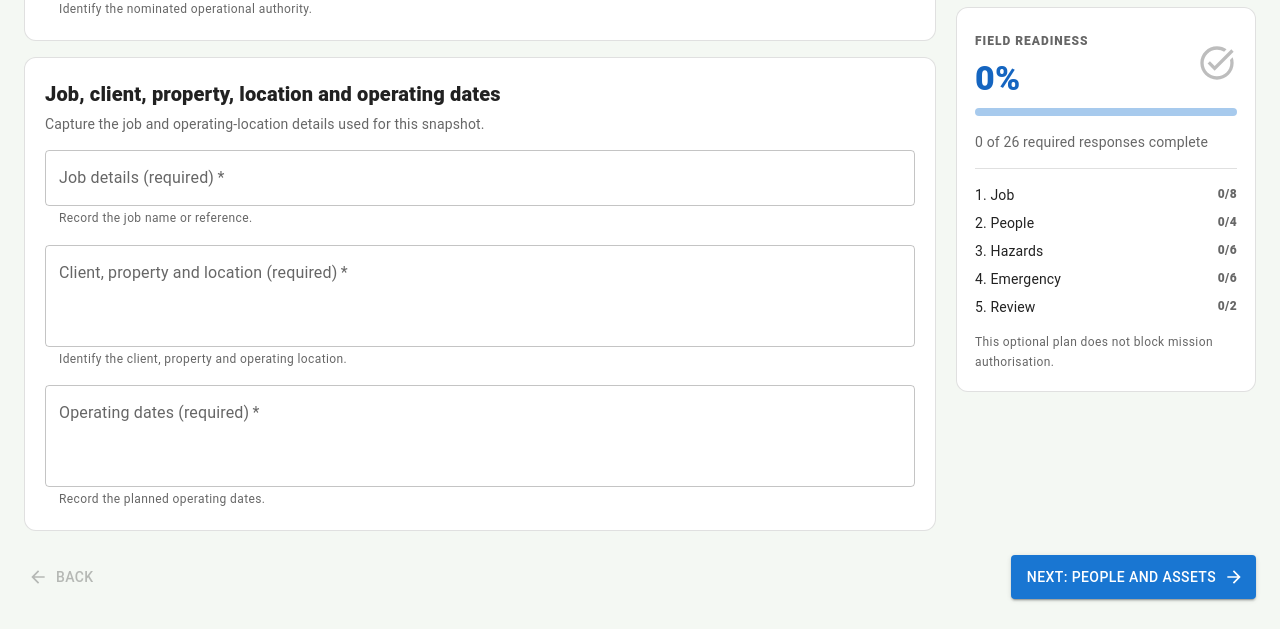
Test case: SafetyPlanEditor › moves through five short steps and keeps readiness visible
(page scrolled)
Expected: the element with test id "safety-plan-readiness" is shown, [956,7,1256,392]
Click the button "Next: People and assets" at (1133, 577), box [1011,555,1256,599]
(page scrolled)
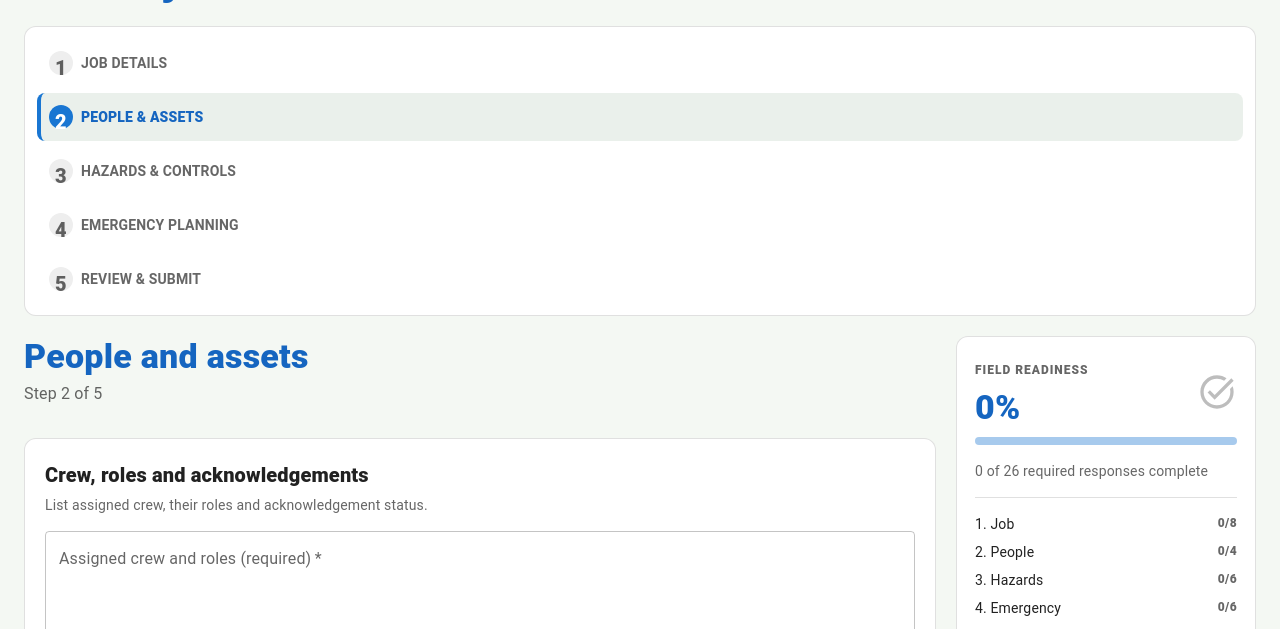
Result: the heading "People and assets" is shown at [24,336,309,376]
Click the button "5 Review & submit" at (141, 279), box [37,255,1243,303]
(page scrolled)
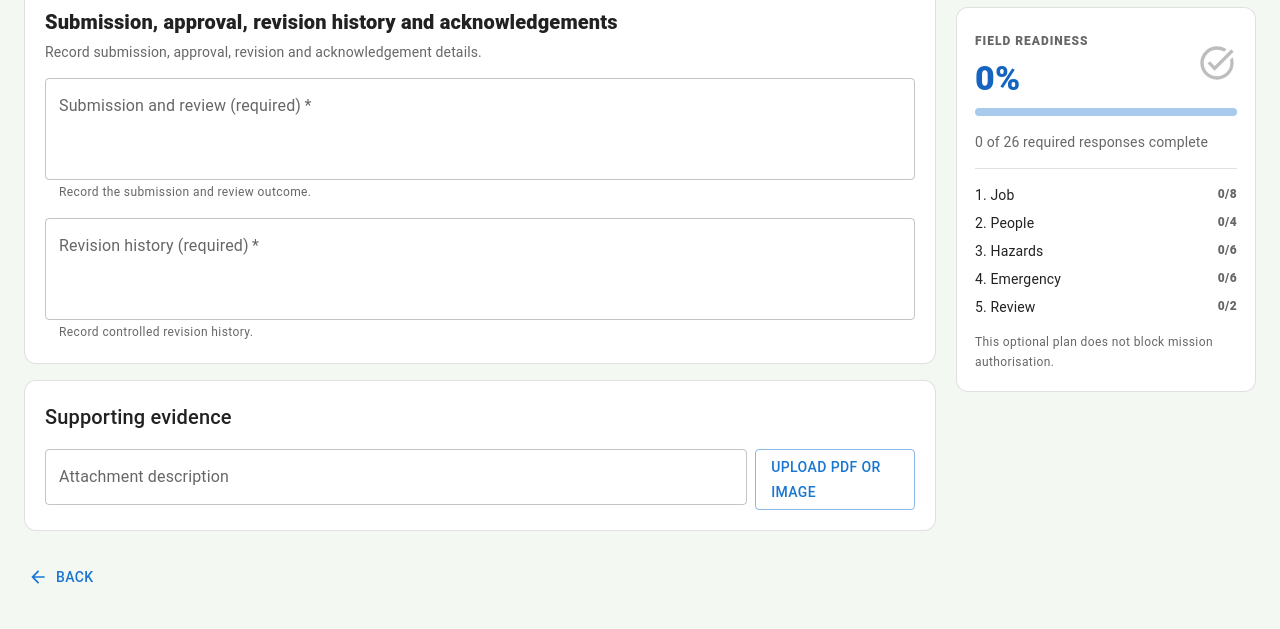
Result: the heading "Supporting evidence" is shown at [45,405,232,429]
